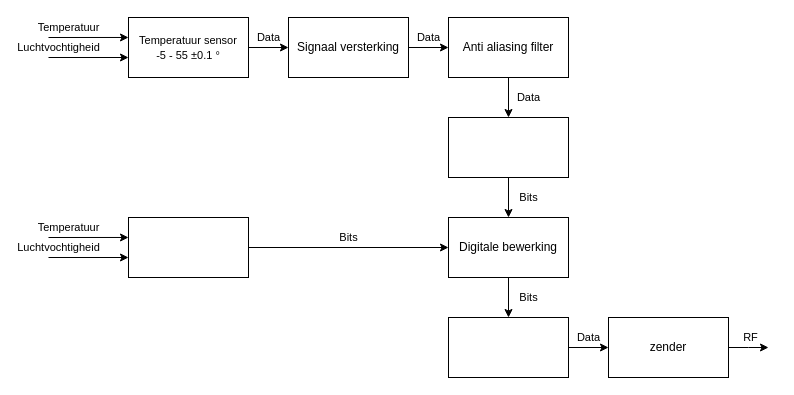
Image size: 794x395. Some labels were removed from this diagram. The centre of each missing label's shape, as x and y in pixels:
"ADC" goes at point 508,147.
"DAC" goes at point 508,347.
"Luchtvochtigheidsensor 0,1 - 100 ±2%" goes at point 188,247.
